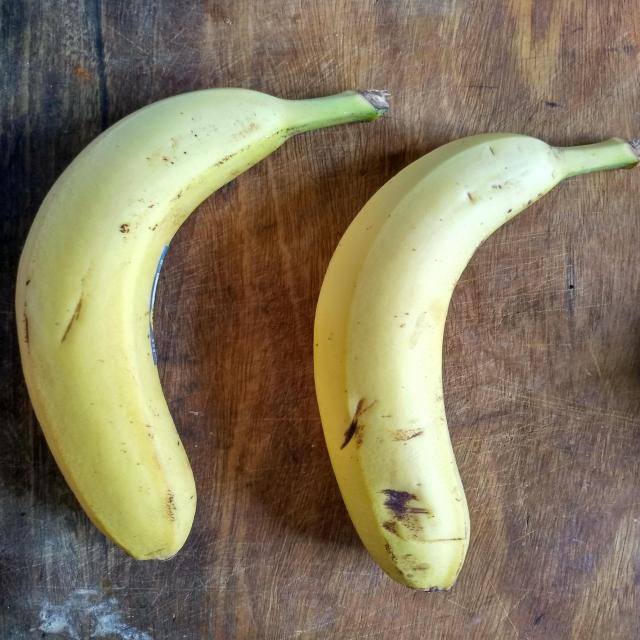Banana: (9, 88, 392, 564), (313, 133, 639, 593)
